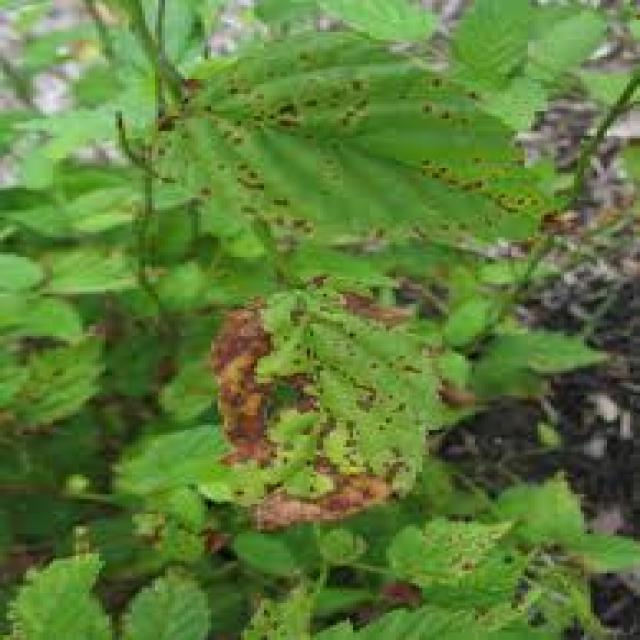bercak_daun: (202, 282, 438, 530)
